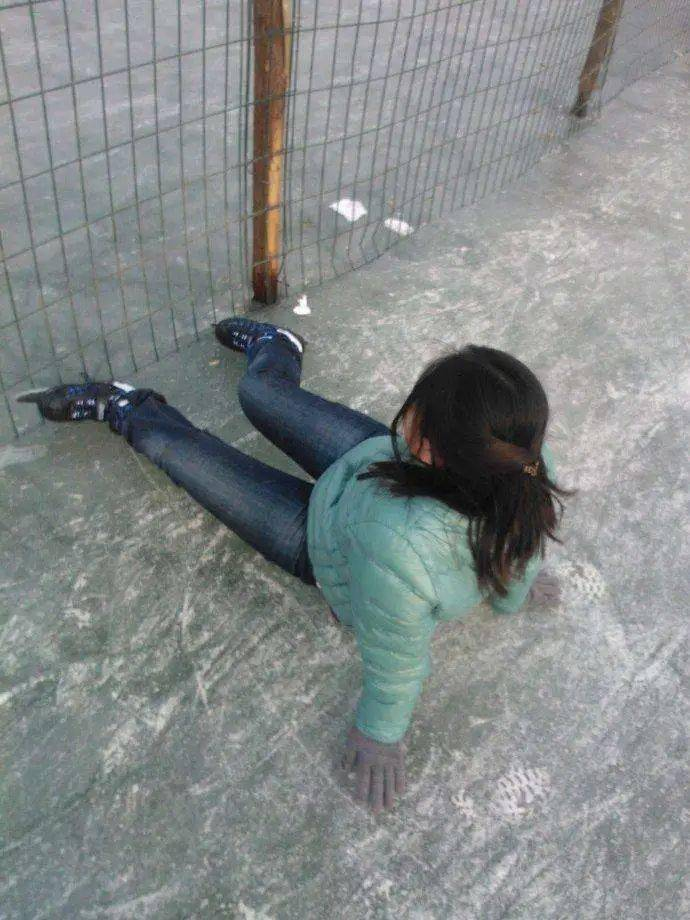down: (20, 298, 584, 814)
